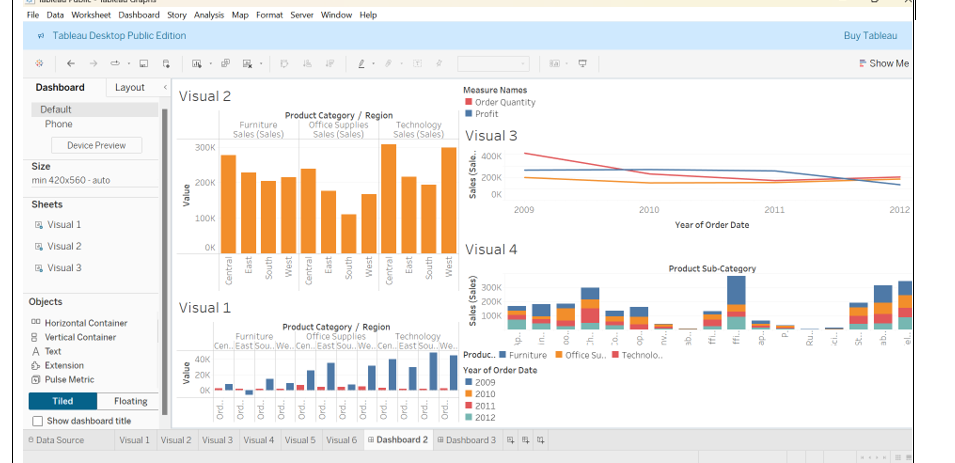

This screenshot's page, from the dashboard's own definition file:
{"tool":"tableau","page":{"name":"Dashboard 2","canvas":[1000,1000],"units":"permille","ordinal":0},"visuals":[{"type":"worksheet","title":"Sheet 2","mark":"Automatic","cols":["Product_Category","Region"],"box":[5,10.7,379.7,603.7]},{"type":"legend","title":"Sheet 1","param":"[federated.0hhowwg024aihu1317b410w2jqk7].[:Measure Names]","box":[384.7,10.7,610.4,112.6]},{"type":"worksheet","title":"Sheet 3","mark":"Automatic","rows":["Sales"],"cols":["Order_Date"],"box":[384.7,123.3,610.4,329.1]},{"type":"worksheet","title":"Sheet 4","mark":"Bar","rows":["Sales"],"cols":["Product_Sub-Category"],"box":[384.7,452.4,610.4,314.4]},{"type":"worksheet","title":"Sheet 1","mark":"Automatic","cols":["Product_Category","Region"],"box":[5,614.4,379.7,374.8]},{"type":"legend","title":"Sheet 3","param":"[federated.0hhowwg024aihu1317b410w2jqk7].[none:Product_Category:nk]","box":[384.7,766.8,610.4,42.9]},{"type":"legend","title":"Sheet 4","param":"[federated.0hhowwg024aihu1317b410w2jqk7].[tyr:Order_Date:ok]","box":[384.7,809.7,610.4,179.6]}]}

Visuals, with their boxes on the dashboard's canvas, which has no fixed pixel size, in thousandths of its width and height (x1, y1, x2, y2). These are canvas units, not pixel positions in the 955x463 screenshot, which may show the page scaled, cropped or inside an application window:
"Sheet 2" worksheet: box(5, 11, 385, 614)
"Sheet 1" legend: box(385, 11, 995, 123)
"Sheet 3" worksheet: box(385, 123, 995, 452)
"Sheet 4" worksheet (Bar marks): box(385, 452, 995, 767)
"Sheet 1" worksheet: box(5, 614, 385, 989)
"Sheet 3" legend: box(385, 767, 995, 810)
"Sheet 4" legend: box(385, 810, 995, 989)
